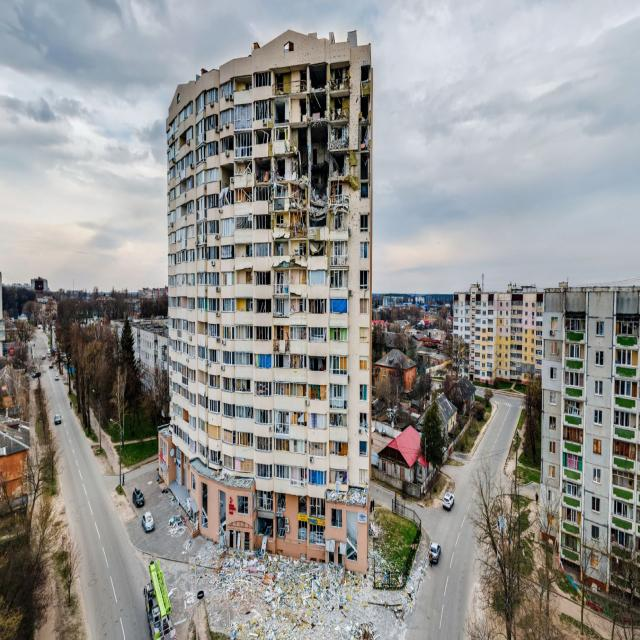building: (163, 28, 373, 576), (540, 281, 640, 598)
